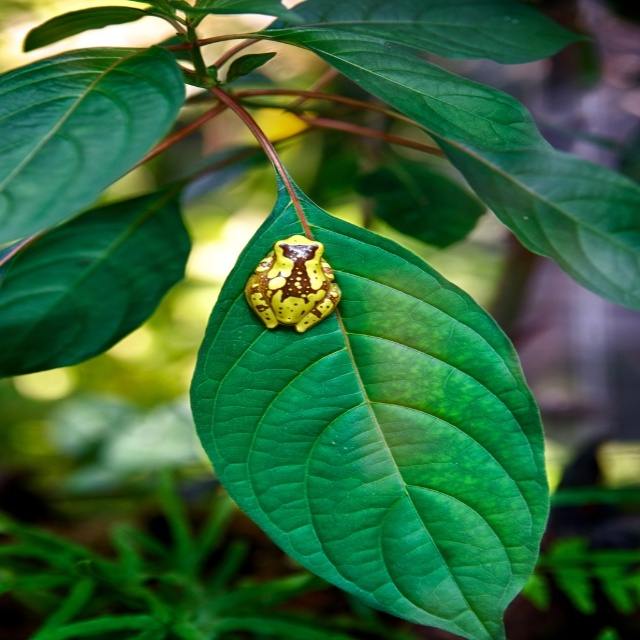Frog: (237, 232, 346, 335)
